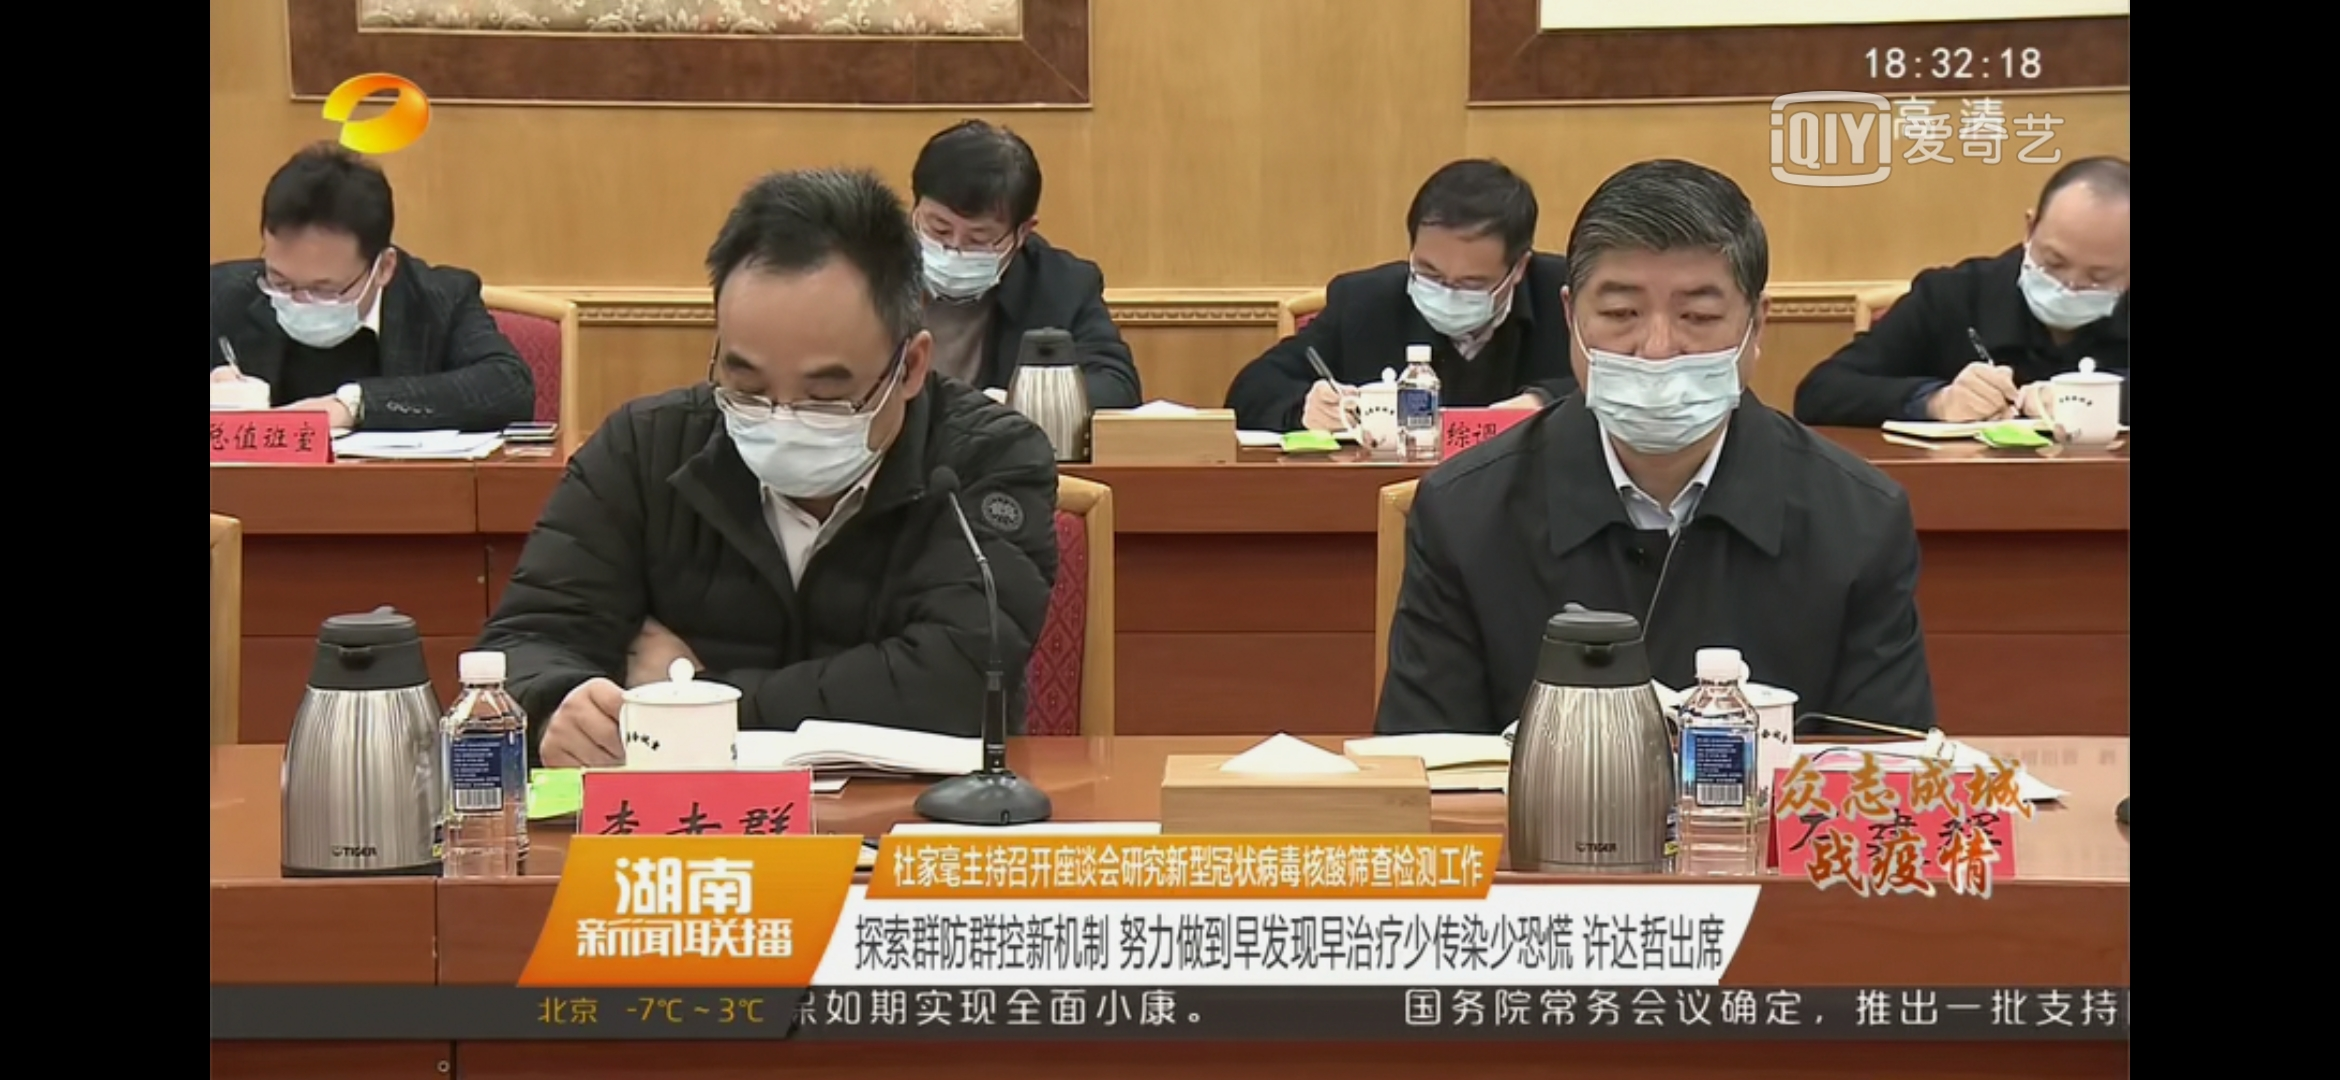correctlyWear: (688, 149, 924, 504), (245, 128, 404, 357), (1386, 148, 1539, 342), (903, 107, 1045, 307), (2022, 134, 2136, 340)
incorrectlyWear: (1560, 154, 1770, 456)
